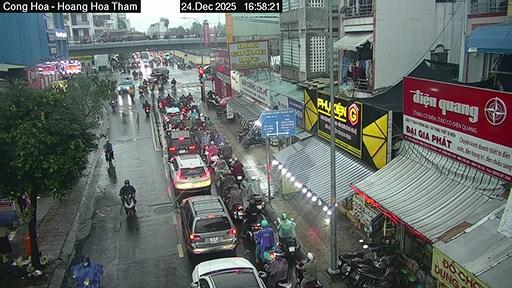motorbike: (336, 238, 387, 275), (348, 255, 396, 287), (71, 262, 102, 287), (246, 212, 265, 241), (282, 237, 297, 264), (242, 133, 265, 147), (122, 194, 134, 215), (249, 193, 262, 211), (205, 95, 220, 108), (231, 204, 242, 220), (236, 130, 249, 142), (103, 149, 112, 166), (233, 172, 243, 185), (295, 268, 303, 282), (304, 280, 322, 286), (109, 99, 117, 111), (144, 106, 150, 116), (297, 259, 306, 265)
